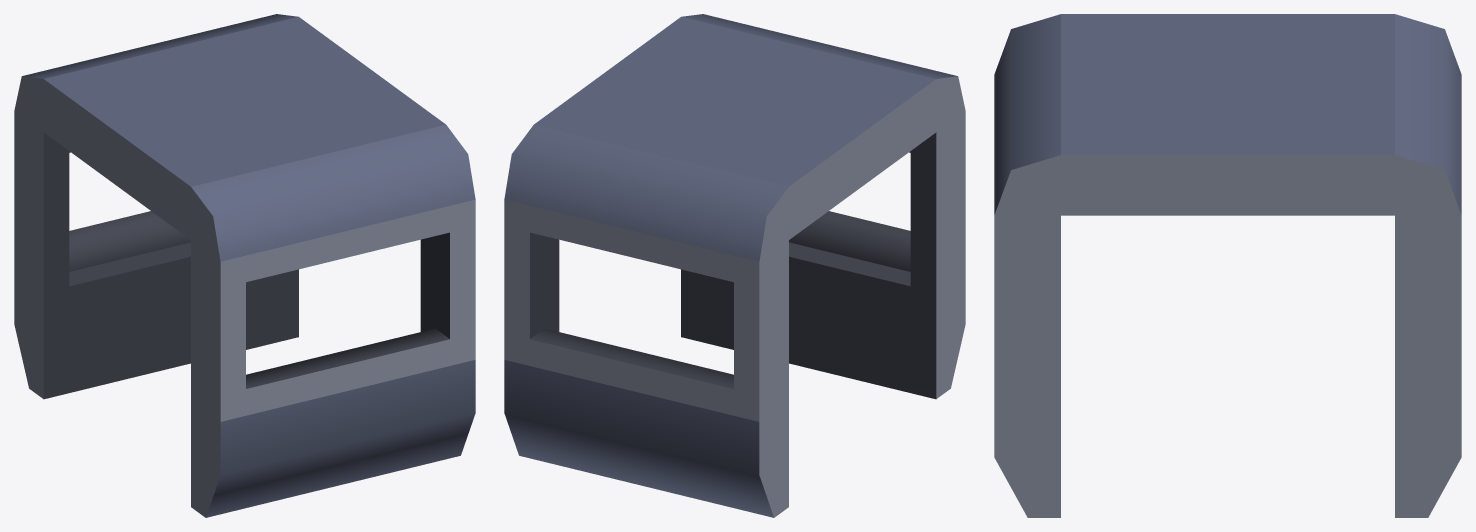
Rendered from CoverWindow-transformed.glb.
3 renders of one model, left to right at view 1: azimuth 30°, elevation 25°; view 2: azimuth 150°, elevation 25°; view 3: azimuth 270°, elevation 25°, orthographic. The views are drawn at different scales.
Parts seen in each view (by area): view 1: cover-window; view 2: cover-window; view 3: cover-window.
Boxes of the visible parts, x1=… form: cover-window: x1=14, y1=14, x2=475, y2=517; cover-window: x1=504, y1=14, x2=965, y2=517; cover-window: x1=994, y1=14, x2=1461, y2=517.
Size of the model in its own units: 1 by 1.2 by 1.4.
